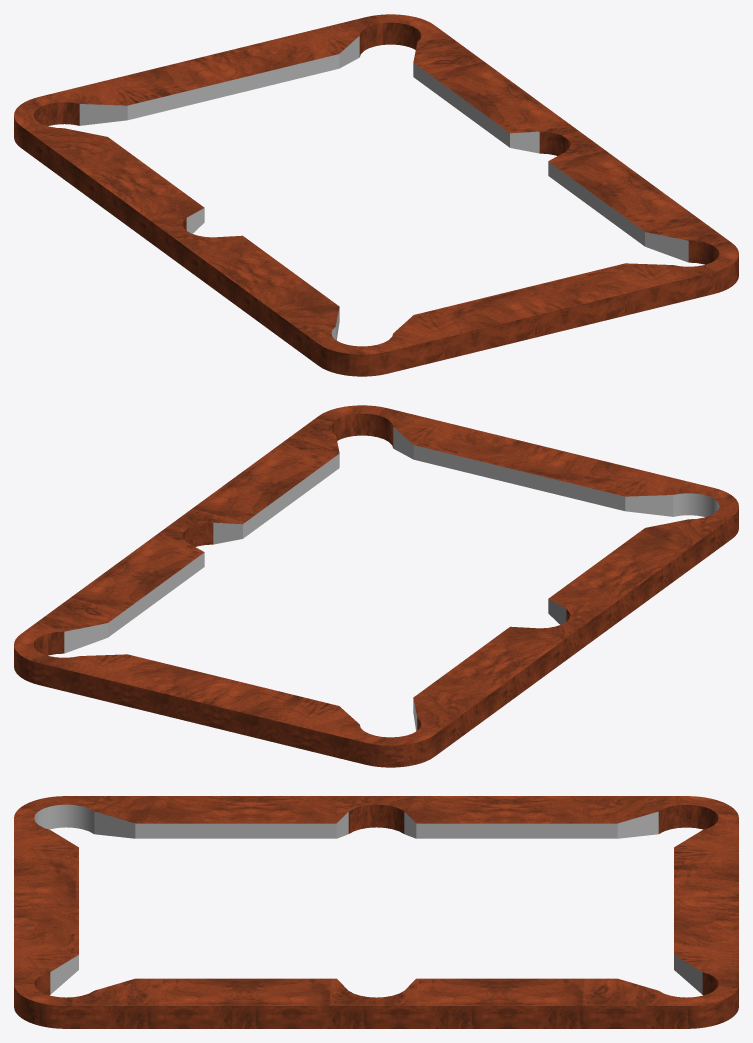
The model's file is pool.obj.
3 renders of one model, top to bottom at view 1: azimuth 30°, elevation 25°; view 2: azimuth 150°, elevation 25°; view 3: azimuth 270°, elevation 25°, orthographic. The views are drawn at different scales.
Parts seen in each view (by area): view 1: SketchUp.010_ID92_pool.001, SketchUp.010_ID92_mahogony.001, SketchUp.010_ID92_pool_pool.jpg, SketchUp.001_ID92.002_mahogony.001, SketchUp.002_ID92.003_mahogony.001, SketchUp.000_ID92.001_mahogony.001, SketchUp.005_ID92.006_mahogony.001; view 2: SketchUp.010_ID92_pool.001, SketchUp.010_ID92_mahogony.001, SketchUp.010_ID92_pool_pool.jpg, SketchUp.005_ID92.006_mahogony.001, SketchUp.004_ID92.005_pool.001, SketchUp.000_ID92.001_mahogony.001, SketchUp.001_ID92.002_mahogony.001; view 3: SketchUp.010_ID92_pool.001, SketchUp.010_ID92_mahogony.001, SketchUp.010_ID92_pool_pool.jpg, SketchUp.003_ID92.004_mahogony.001, SketchUp.004_ID92.005_pool.001, SketchUp.002_ID92.003_mahogony.001.
Part boxes in pixels (left/top/right/bottom): SketchUp.010_ID92_pool.001: left=14, top=14, right=738, bottom=354; SketchUp.010_ID92_mahogony.001: left=14, top=116, right=738, bottom=376; SketchUp.010_ID92_pool_pool.jpg: left=79, top=36, right=688, bottom=340; SketchUp.001_ID92.002_mahogony.001: left=359, top=22, right=421, bottom=56; SketchUp.002_ID92.003_mahogony.001: left=33, top=102, right=79, bottom=125; SketchUp.000_ID92.001_mahogony.001: left=539, top=131, right=570, bottom=155; SketchUp.005_ID92.006_mahogony.001: left=688, top=240, right=719, bottom=264; SketchUp.010_ID92_pool.001: left=14, top=405, right=738, bottom=745; SketchUp.010_ID92_mahogony.001: left=14, top=507, right=738, bottom=767; SketchUp.010_ID92_pool_pool.jpg: left=64, top=427, right=673, bottom=731; SketchUp.005_ID92.006_mahogony.001: left=331, top=413, right=393, bottom=447; SketchUp.004_ID92.005_pool.001: left=673, top=493, right=719, bottom=516; SketchUp.000_ID92.001_mahogony.001: left=182, top=522, right=213, bottom=546; SketchUp.001_ID92.002_mahogony.001: left=33, top=631, right=64, bottom=655; SketchUp.010_ID92_pool.001: left=14, top=796, right=738, bottom=1005; SketchUp.010_ID92_mahogony.001: left=14, top=985, right=738, bottom=1028; SketchUp.010_ID92_pool_pool.jpg: left=50, top=811, right=702, bottom=994; SketchUp.003_ID92.004_mahogony.001: left=348, top=804, right=404, bottom=833; SketchUp.004_ID92.005_pool.001: left=34, top=804, right=94, bottom=833; SketchUp.002_ID92.003_mahogony.001: left=658, top=804, right=718, bottom=833.
Bounding box in the file's own units: 94.65 × 4.81 × 138.
